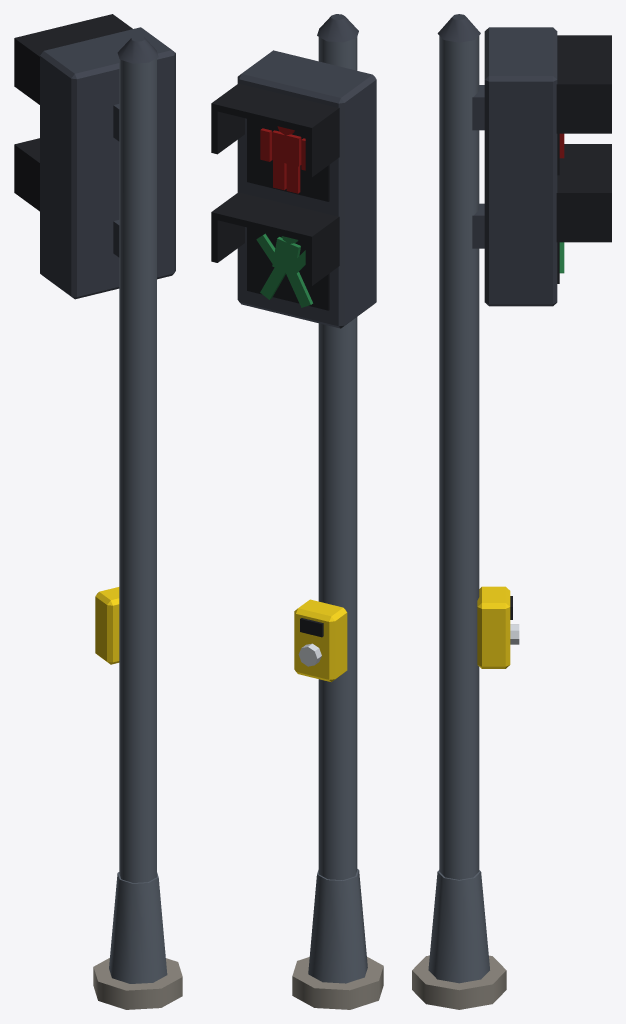
File: traffic_light_ped.glb
3 renders of one model, left to right at view 1: azimuth 30°, elevation 25°; view 2: azimuth 150°, elevation 25°; view 3: azimuth 270°, elevation 25°, orthographic. The views are drawn at different scales.
Visible parts, largest first — view 1: traffic_light_ped; view 2: traffic_light_ped, Lamp_Stop, Lamp_Walk; view 3: traffic_light_ped.
Boxes of the visible parts, <box> form: traffic_light_ped: <box>14,14,182,1009</box>; traffic_light_ped: <box>211,14,383,1009</box>; Lamp_Stop: <box>260,126,305,193</box>; Lamp_Walk: <box>256,233,312,307</box>; traffic_light_ped: <box>412,14,611,1009</box>.
Bounding box in the file's own units: 0.34 × 2.96 × 0.55.
